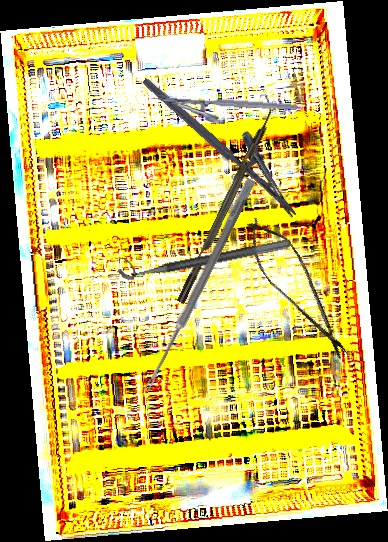Chopper: (166, 94, 283, 304)
Fixation Ring: (114, 224, 291, 283)
Micro Scissor: (233, 207, 363, 369)
Needle Holder: (141, 56, 316, 220), (156, 94, 297, 130)
Surgical Spoon: (142, 177, 256, 394)
